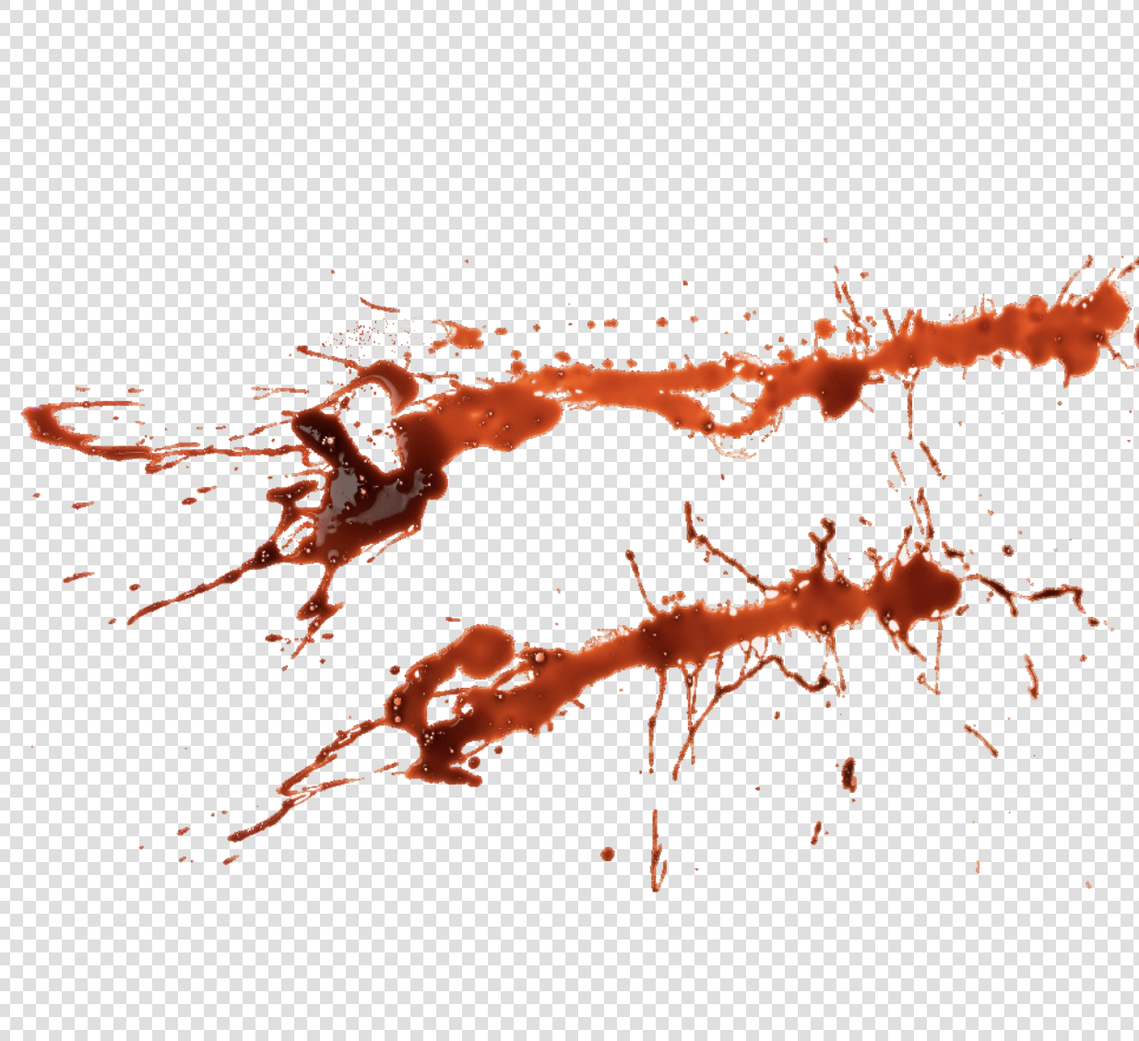blood_28.png: (4, 249, 1139, 904)
